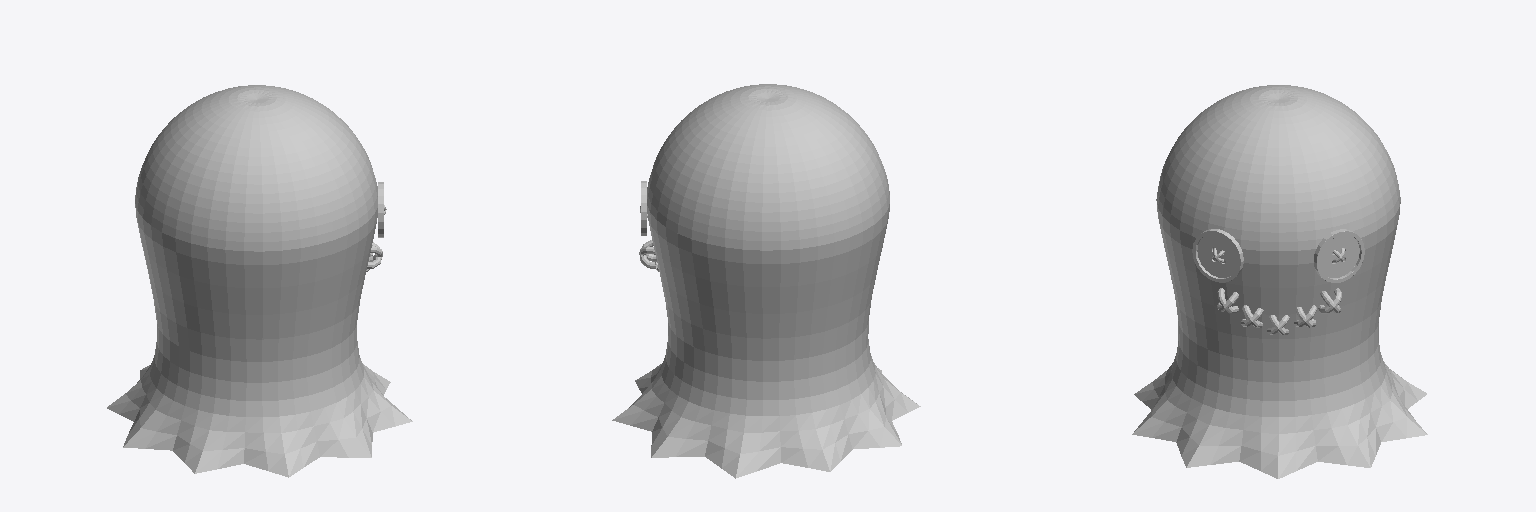
The model's file is GhostyReborn.obj.
The picture shows the model from 3 angles: view 1: azimuth 30°, elevation 25°; view 2: azimuth 150°, elevation 25°; view 3: azimuth 270°, elevation 25°; orthographic projection.
Parts seen in each view (by area): view 1: polySurface15; view 2: polySurface15; view 3: polySurface15.
Part boxes in pixels (left/top/right/bottom): polySurface15: left=107, top=85, right=412, bottom=477; polySurface15: left=612, top=84, right=920, bottom=478; polySurface15: left=1132, top=85, right=1427, bottom=478.
Size of the model in its own units: 267 by 301 by 256.